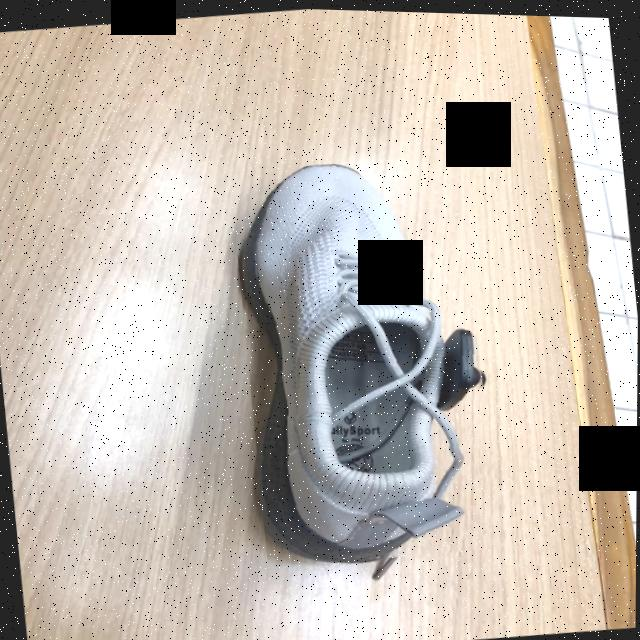shoe: (238, 162, 484, 560)
